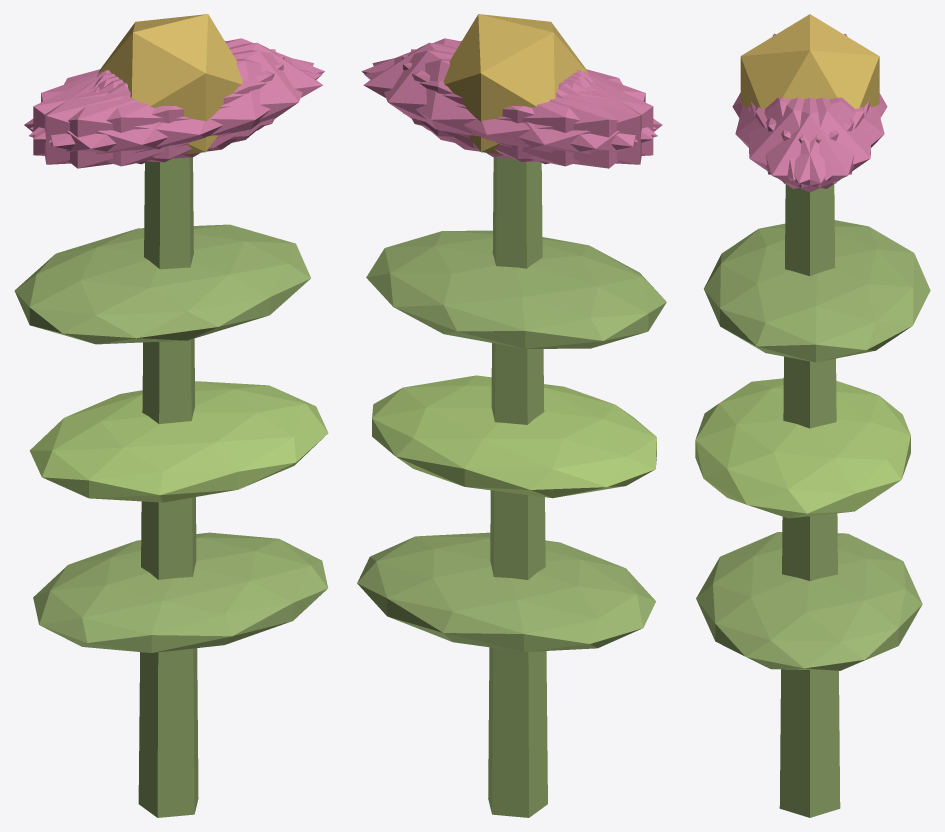
File: garcinia-subelliptica.glb
3 renders of one model, left to right at view 1: azimuth 30°, elevation 25°; view 2: azimuth 150°, elevation 25°; view 3: azimuth 270°, elevation 25°, orthographic.
Parts seen in each view (by area): view 1: leaf1, leaf2, leaf0, stem, center, petal1, petal6, petal2, petal5, petal7, petal0, petal4 (+2 smaller); view 2: leaf2, leaf0, leaf1, stem, center, petal8, petal3, petal7, petal4, petal2, petal0, petal5 (+2 smaller); view 3: leaf2, leaf0, leaf1, stem, center, petal0, petal4, petal5, petal8, petal1.
Part boxes in pixels (x1,y1,x2,y2): leaf1: (29,381,328,502); leaf2: (14,224,310,344); leaf0: (33,532,327,652); stem: (138,157,198,817); center: (98,14,242,154); petal1: (29,58,322,166); petal6: (24,71,236,168); petal2: (44,49,275,164); petal5: (48,50,313,158); petal7: (33,55,284,162); petal0: (98,42,322,148); petal4: (30,38,324,139); leaf2: (366,230,666,348); leaf0: (357,532,655,651); leaf1: (372,375,656,498); stem: (488,157,547,817); center: (443,14,588,154); petal8: (364,58,657,166); petal3: (450,71,662,168); petal7: (411,49,641,164); petal4: (372,50,637,158); petal2: (402,55,653,162); petal0: (363,42,588,148); petal5: (361,38,656,139); leaf2: (704,220,930,362); leaf0: (696,532,922,670); leaf1: (695,378,910,518); stem: (779,184,840,817); center: (740,14,879,108); petal0: (750,98,869,192); petal4: (755,97,871,188); petal5: (748,97,864,188); petal8: (766,97,884,180); petal1: (735,97,853,180).
Size of the model in its own units: 0.1452 by 0.3756 by 0.1037.
